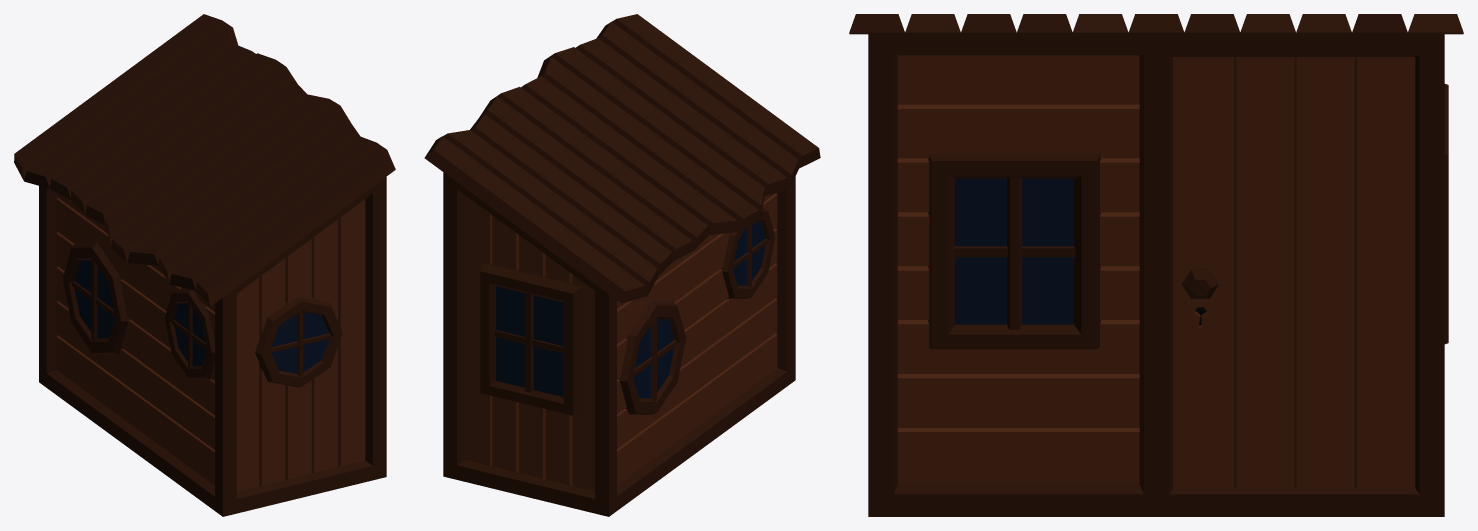
Rendered from DeckHouse.fbx.glb.
3 renders of one model, left to right at view 1: azimuth 30°, elevation 25°; view 2: azimuth 150°, elevation 25°; view 3: azimuth 270°, elevation 25°, orthographic. The views are drawn at different scales.
Visible parts, largest first — view 1: DeckHouse; view 2: DeckHouse; view 3: DeckHouse.
Part boxes in pixels (x1,y1,x2,y2): DeckHouse: [14, 14, 395, 516]; DeckHouse: [424, 14, 820, 516]; DeckHouse: [849, 14, 1463, 516].
Size of the model in its own units: 134 by 196 by 213.
